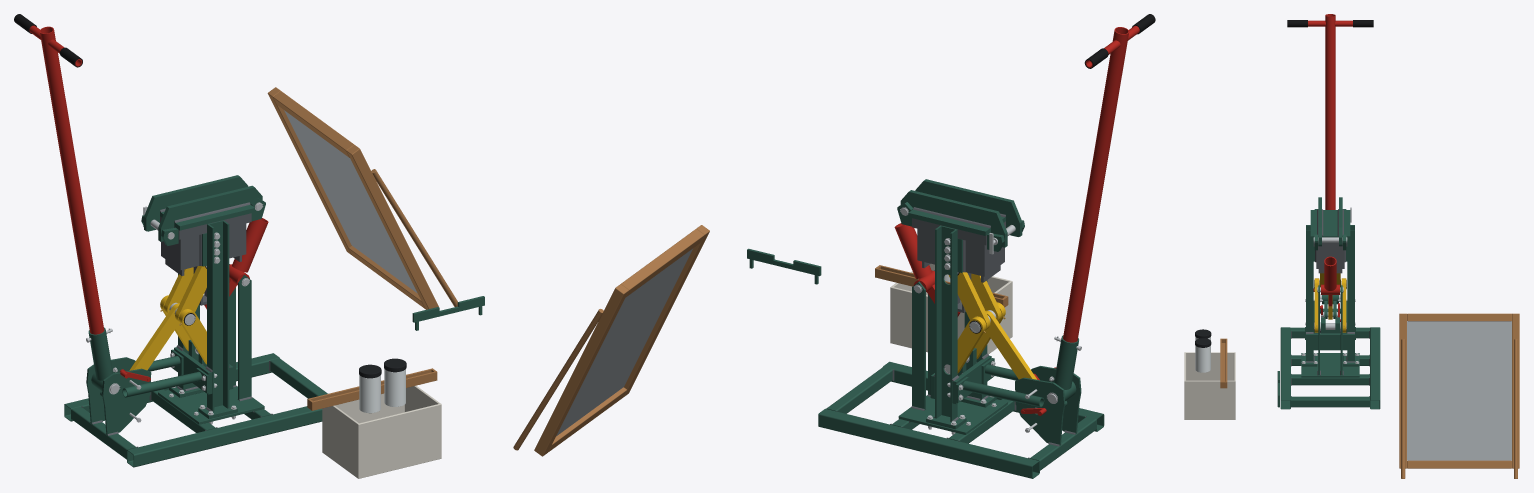
3 views of the same model, side by side, from view 1: azimuth 30°, elevation 25°; view 2: azimuth 150°, elevation 25°; view 3: azimuth 270°, elevation 25° (orthographic). The views are drawn at different scales.
Visible parts, largest first — view 1: Frame: base on skids and press core (×12), Soil sieve (×6), Soil test kit (×4), Lever, crank hub and T-handle (×2), Lid with ribs, hinge and latch, Toggle links, pins and bushes (×4), Mold box, Eject lever, rest catch and end pawl, Block gauge; view 2: Frame: base on skids and press core (×11), Soil sieve (×6), Lever, crank hub and T-handle (×2), Lid with ribs, hinge and latch, Soil test kit (×2), Toggle links, pins and bushes (×3), Mold box, Eject lever, rest catch and end pawl, Block gauge; view 3: Soil sieve (×7), Frame: base on skids and press core (×8), Soil test kit (×3), Lever, crank hub and T-handle, Lid with ribs, hinge and latch, Mold box, Eject lever, rest catch and end pawl.
Part boxes in pixels (x1,y1,x2,y2): Frame: base on skids and press core (×12): (64, 220, 327, 467); Soil sieve (×6): (267, 87, 457, 309); Soil test kit (×4): (307, 368, 441, 478); Lever, crank hub and T-handle (×2): (29, 25, 112, 391); Lid with ribs, hinge and latch: (144, 175, 262, 241); Toggle links, pins and bushes (×4): (129, 266, 206, 370); Mold box: (160, 213, 251, 270); Eject lever, rest catch and end pawl: (232, 218, 268, 272); Block gauge: (412, 296, 484, 330); Frame: base on skids and press core (×11): (818, 225, 1104, 478); Soil sieve (×6): (513, 225, 709, 456); Lever, crank hub and T-handle (×2): (1054, 25, 1139, 400); Lid with ribs, hinge and latch: (900, 179, 1022, 247); Soil test kit (×2): (875, 263, 1012, 354); Toggle links, pins and bushes (×3): (949, 272, 1036, 379); Mold box: (912, 218, 1005, 276); Eject lever, rest catch and end pawl: (894, 223, 931, 278); Block gauge: (747, 248, 821, 284); Soil sieve (×7): (1399, 313, 1519, 478); Frame: base on skids and press core (×8): (1280, 225, 1380, 409); Soil test kit (×3): (1184, 338, 1235, 419); Lever, crank hub and T-handle: (1308, 14, 1352, 209); Lid with ribs, hinge and latch: (1310, 197, 1350, 246); Mold box: (1313, 242, 1347, 268); Eject lever, rest catch and end pawl: (1324, 256, 1336, 290).
Bounding box in the file's own units: 2.25 × 1.95 × 1.95.
